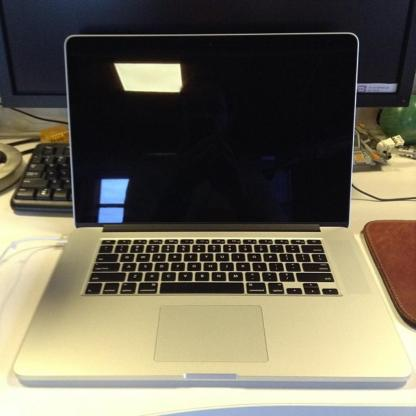board: (26, 30, 412, 400)
